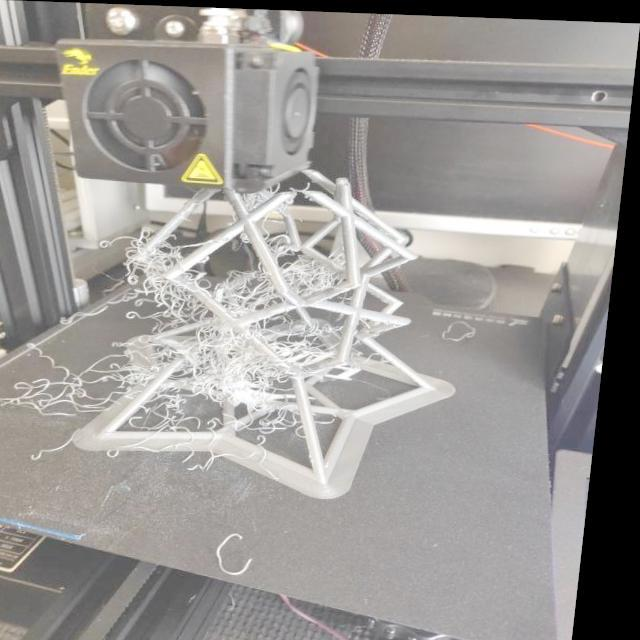spaghetti: (81, 237, 389, 429)
